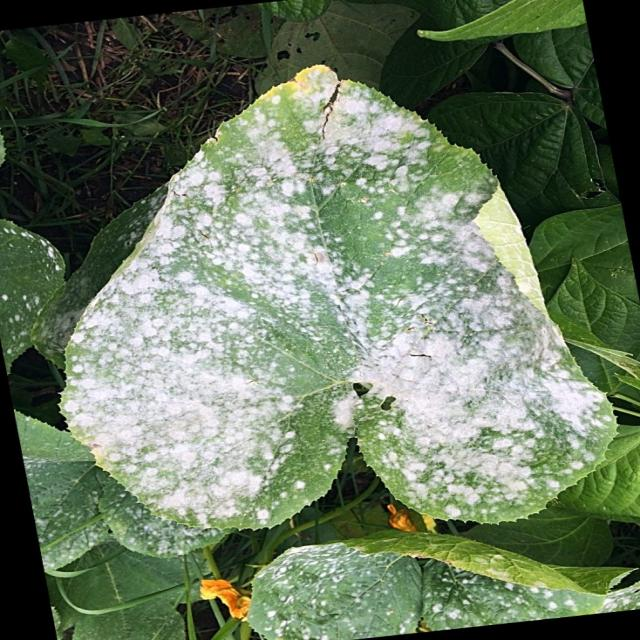Powdery Mildew: (54, 63, 620, 538)
